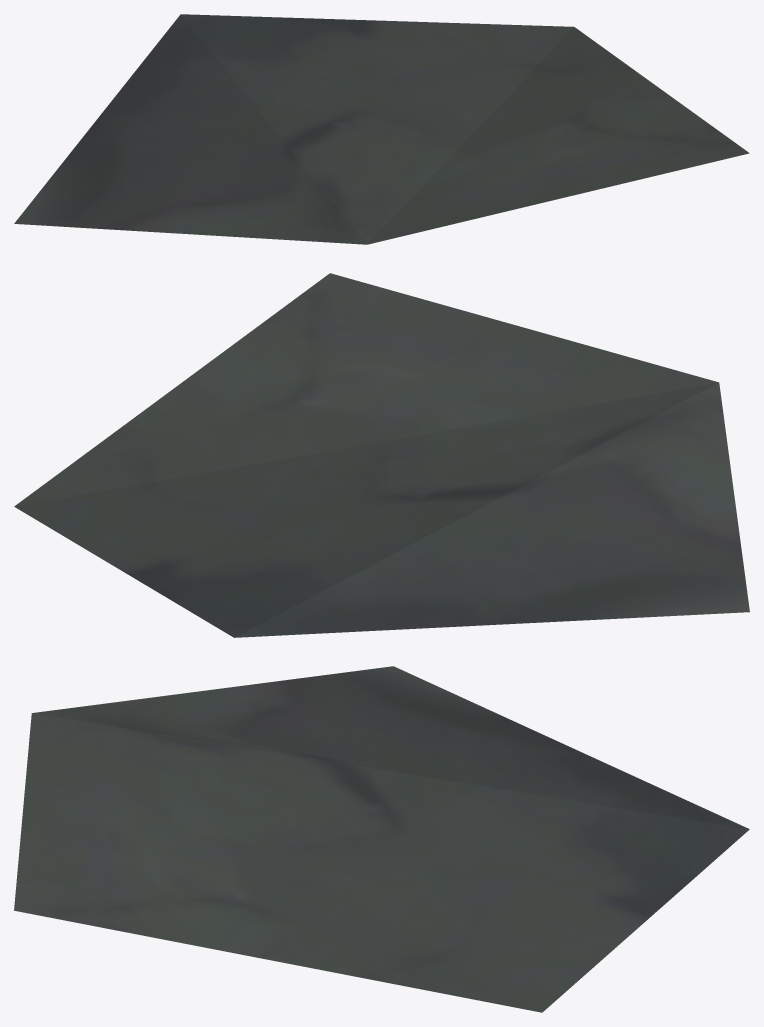
File: Ridge_3_1_Top.gltf
The picture shows the model from 3 angles, top to bottom: view 1: azimuth 30°, elevation 25°; view 2: azimuth 150°, elevation 25°; view 3: azimuth 270°, elevation 25°; orthographic projection. The views are drawn at different scales.
Parts seen in each view (by area): view 1: Ridge_3_1_Top; view 2: Ridge_3_1_Top; view 3: Ridge_3_1_Top.
Part boxes in pixels (<box>): Ridge_3_1_Top: <box>14,14,749,244</box>; Ridge_3_1_Top: <box>14,273,749,637</box>; Ridge_3_1_Top: <box>14,666,749,1012</box>.
Size of the model in its own units: 10.39 by 0.9765 by 9.46.
Materials: 1 (1 with a texture image).
